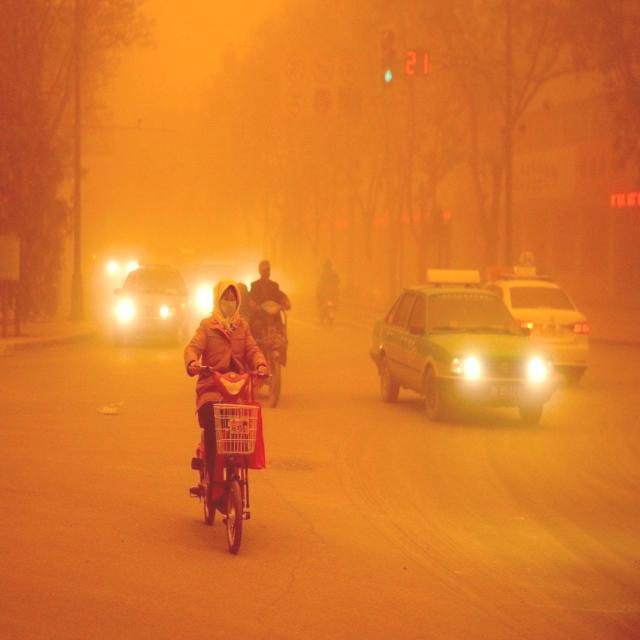Car: (364, 284, 555, 416)
Cycle: (186, 277, 264, 547), (254, 280, 293, 410)
